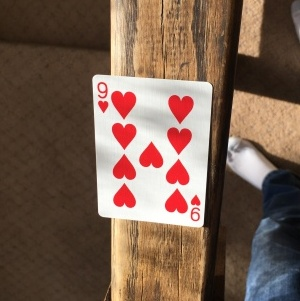card: (87, 73, 213, 228)
